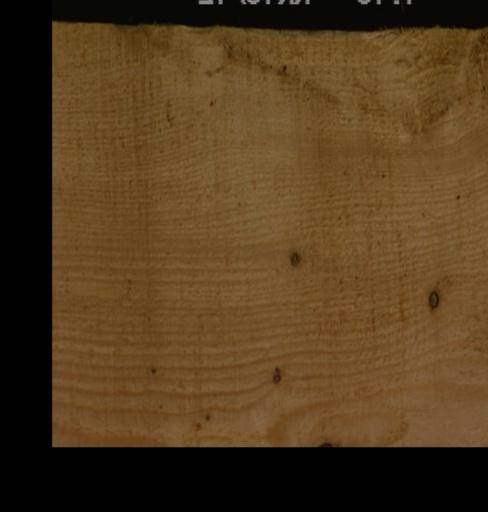dry_knot: (288, 248, 301, 267)
small_knot: (270, 365, 284, 383)
